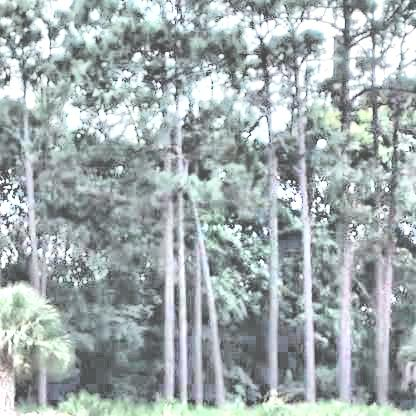golfball: (315, 136, 325, 145)
